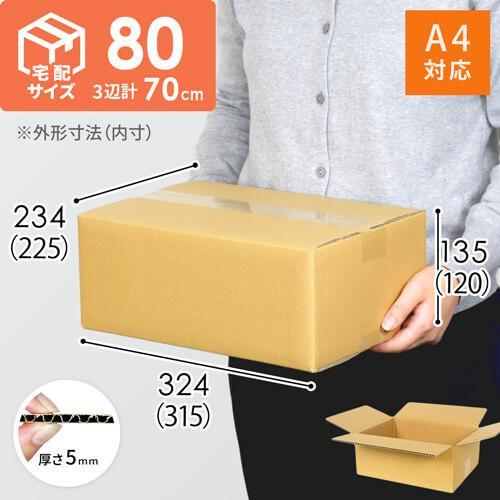box: (71, 176, 432, 368), (322, 391, 500, 490)
